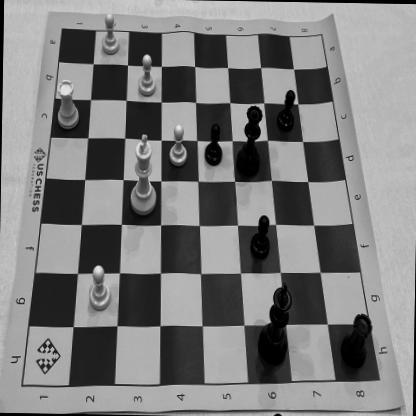black-king: (256, 277, 292, 368)
black-pawn: (248, 212, 274, 260), (203, 120, 226, 168), (274, 86, 297, 132)
black-queen: (233, 102, 265, 180)
black-rook: (338, 310, 373, 372)
white-king: (126, 130, 160, 218)
white-pawn: (85, 260, 112, 314), (96, 12, 122, 58), (134, 51, 158, 100), (166, 121, 190, 168)
white-rook: (53, 76, 83, 130)
